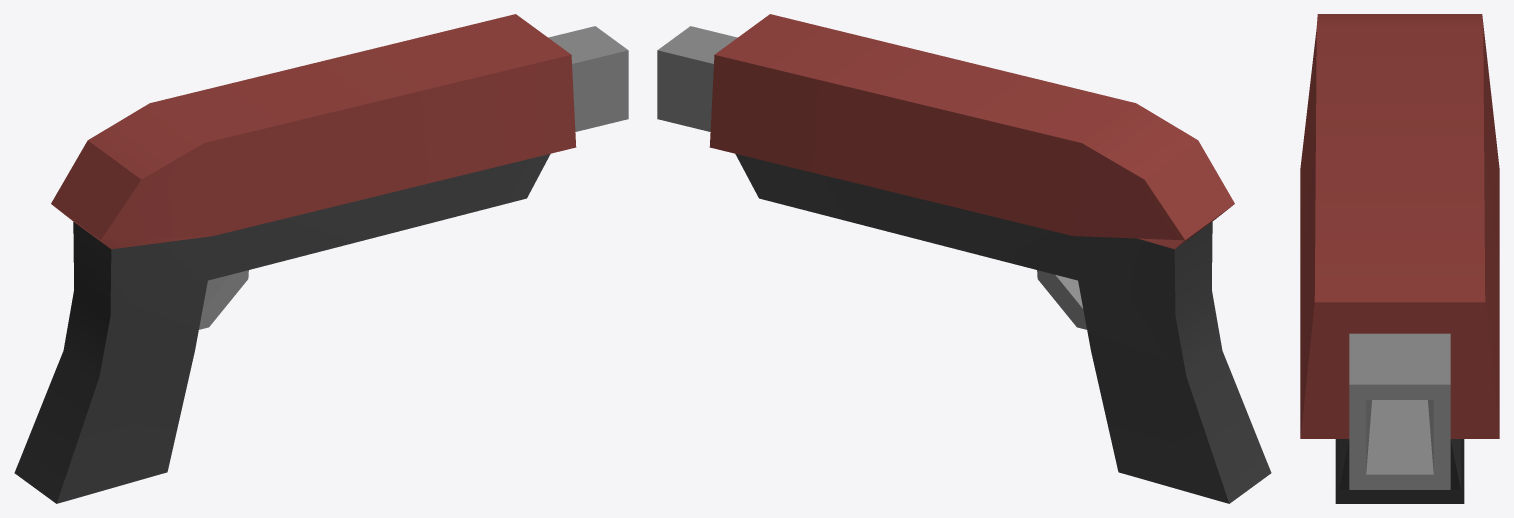
The model's file is final_pistol_0.fbx.
3 views of the same model, side by side, from view 1: azimuth 30°, elevation 25°; view 2: azimuth 150°, elevation 25°; view 3: azimuth 270°, elevation 25° (orthographic). The views are drawn at different scales.
Visible parts, largest first — view 1: Cube; view 2: Cube; view 3: Cube.
Boxes of the visible parts, bbox=[...] form: Cube: bbox=[14, 14, 628, 503]; Cube: bbox=[657, 14, 1271, 503]; Cube: bbox=[1300, 14, 1499, 503].
Bounding box in the file's own units: 1432 × 786 × 280.
